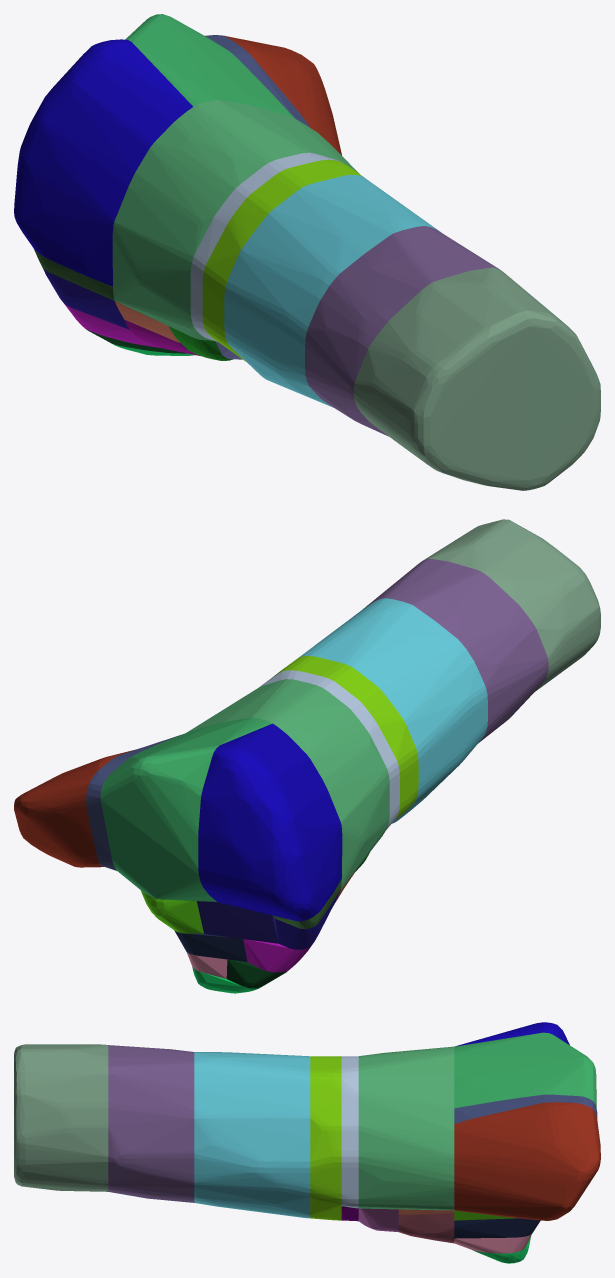
Rendered from proximal_102_coacd.obj.
3 views of the same model, one above another, from view 1: azimuth 30°, elevation 25°; view 2: azimuth 150°, elevation 25°; view 3: azimuth 270°, elevation 25° (orthographic). The views are drawn at different scales.
Parts seen in each view (by area): view 1: geometry_0, geometry_5, geometry_3, geometry_2, geometry_1, geometry_10, geometry_4, geometry_15, geometry_6, geometry_20, geometry_16, geometry_22 (+4 smaller); view 2: geometry_5, geometry_2, geometry_10, geometry_3, geometry_1, geometry_0, geometry_15, geometry_4, geometry_6, geometry_18, geometry_16, geometry_17 (+6 smaller); view 3: geometry_2, geometry_3, geometry_15, geometry_0, geometry_1, geometry_10, geometry_4, geometry_6, geometry_16, geometry_21, geometry_13, geometry_24 (+4 smaller).
Part boxes in pixels (x1,y1,x2,y2): geometry_0: [353, 267, 600, 490]; geometry_5: [14, 39, 192, 286]; geometry_3: [112, 100, 359, 340]; geometry_2: [224, 175, 442, 407]; geometry_1: [305, 226, 501, 436]; geometry_10: [125, 14, 293, 117]; geometry_4: [202, 159, 363, 361]; geometry_15: [223, 35, 341, 155]; geometry_6: [190, 152, 342, 341]; geometry_20: [42, 267, 129, 329]; geometry_16: [205, 35, 310, 127]; geometry_22: [63, 302, 161, 348]; geometry_5: [198, 723, 342, 921]; geometry_2: [299, 598, 487, 823]; geometry_10: [100, 717, 272, 901]; geometry_3: [186, 679, 389, 889]; geometry_1: [363, 558, 548, 743]; geometry_0: [421, 519, 600, 691]; geometry_15: [14, 750, 133, 867]; geometry_4: [273, 656, 418, 819]; geometry_6: [260, 670, 399, 829]; geometry_18: [197, 901, 278, 943]; geometry_16: [86, 734, 181, 870]; geometry_17: [141, 890, 203, 933]; geometry_2: [194, 1052, 310, 1218]; geometry_3: [358, 1046, 454, 1210]; geometry_15: [454, 1102, 600, 1220]; geometry_0: [14, 1044, 108, 1191]; geometry_1: [108, 1045, 194, 1202]; geometry_10: [454, 1032, 596, 1108]; geometry_4: [310, 1056, 341, 1220]; geometry_6: [341, 1056, 358, 1208]; geometry_16: [454, 1094, 597, 1123]; geometry_21: [454, 1218, 540, 1238]; geometry_13: [398, 1213, 454, 1243]; geometry_24: [454, 1234, 531, 1253].
Size of the model in its own units: 0.046 by 0.0417 by 0.1005.
